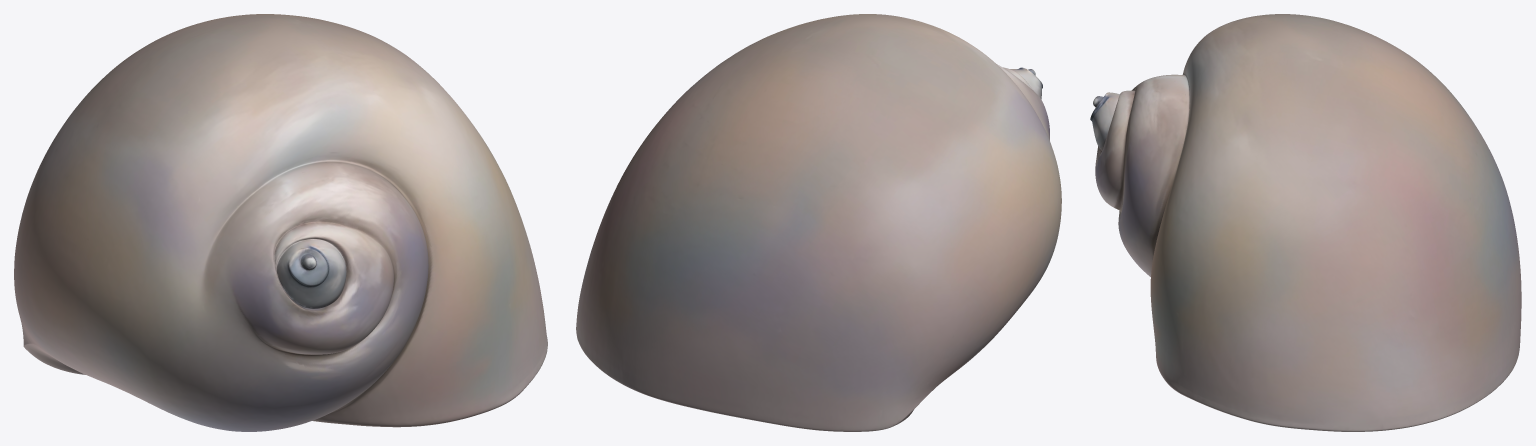
Rendered from white-conch.glb.
3 views of the same model, side by side, from view 1: azimuth 30°, elevation 25°; view 2: azimuth 150°, elevation 25°; view 3: azimuth 270°, elevation 25° (orthographic). The views are drawn at different scales.
Visible parts, largest first — view 1: node_0; view 2: node_0; view 3: node_0.
Boxes of the visible parts, x1=… form: node_0: x1=14, y1=14, x2=547, y2=431; node_0: x1=576, y1=14, x2=1061, y2=431; node_0: x1=1090, y1=14, x2=1521, y2=431.
Size of the model in its own units: 1.55 by 1.13 by 1.49.
Materials: 1 (1 with a texture image).
